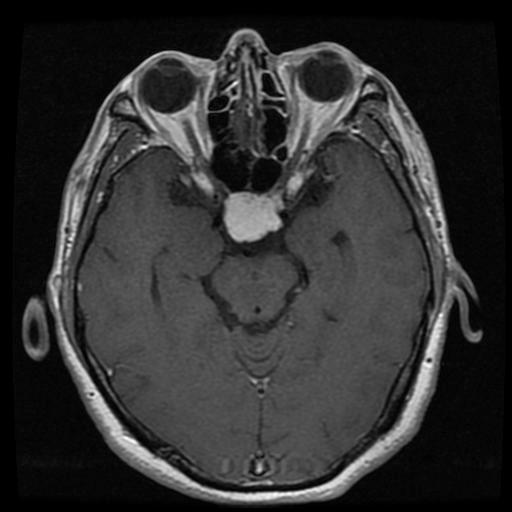Tumour-Meningioma: (199, 182, 290, 256)
